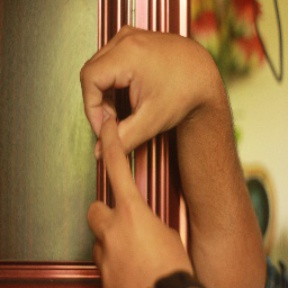Q: (74, 20, 202, 254)
